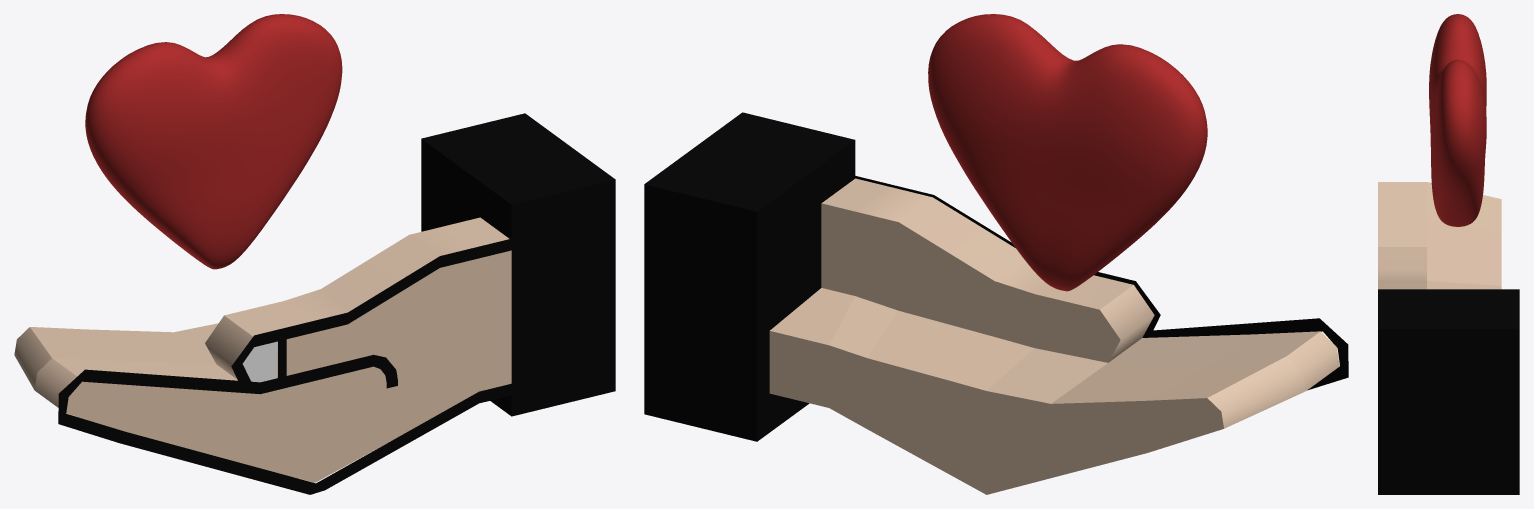
Rendered from Charity Fbx.fbx.
3 views of the same model, side by side, from view 1: azimuth 30°, elevation 25°; view 2: azimuth 150°, elevation 25°; view 3: azimuth 270°, elevation 25° (orthographic). The views are drawn at different scales.
Parts seen in each view (by area): view 1: polySurface187, polySurface188; view 2: polySurface187, polySurface188; view 3: polySurface187, polySurface188.
Part boxes in pixels (x1,y1,x2,y2): polySurface187: (14, 113, 615, 494); polySurface188: (85, 14, 342, 269); polySurface187: (644, 112, 1348, 494); polySurface188: (928, 14, 1207, 291); polySurface187: (1378, 182, 1519, 494); polySurface188: (1429, 14, 1486, 226).
Bounding box in the file's own units: 11.73 × 8.78 × 3.31.
